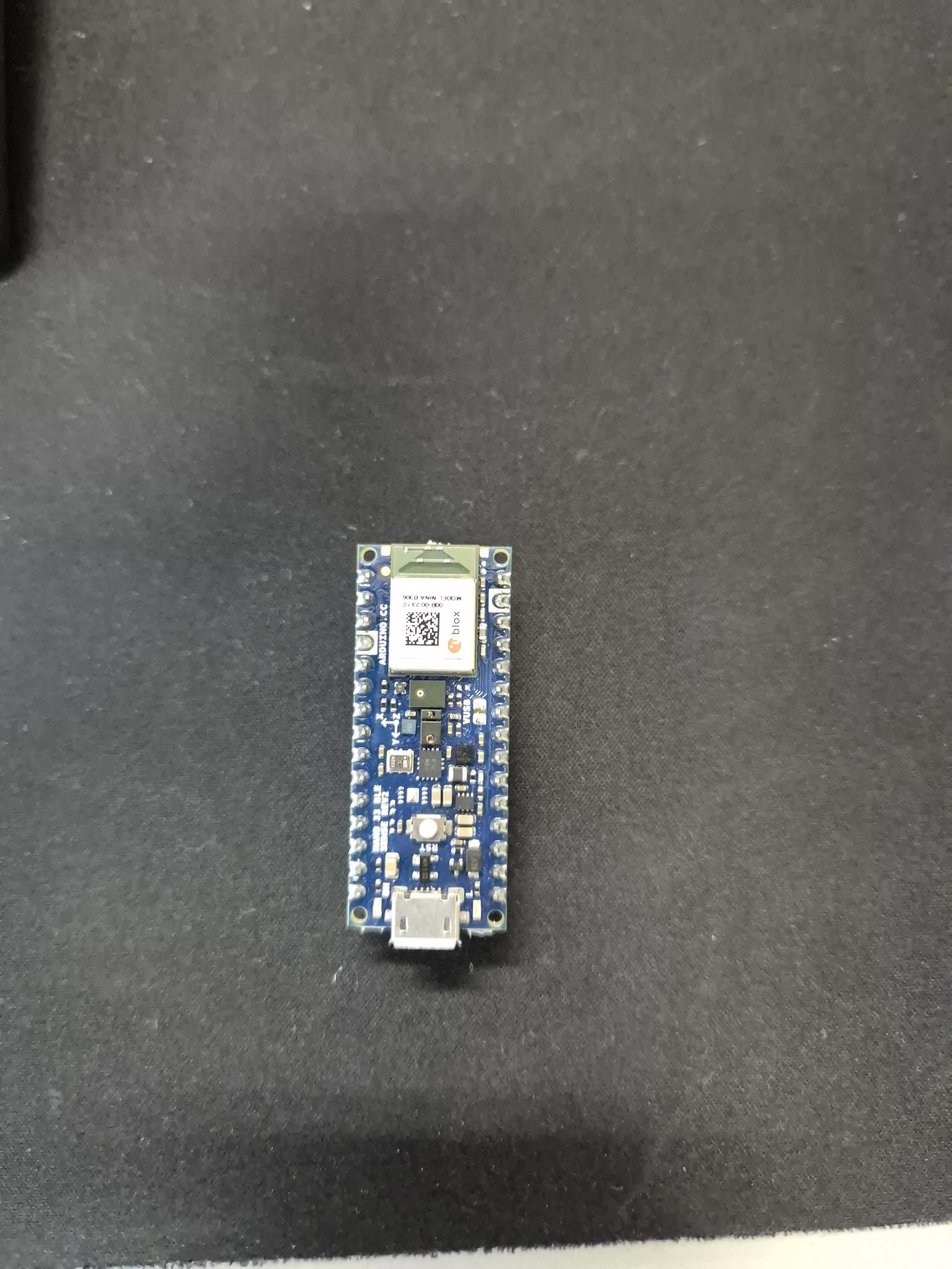arduino-nano-ble-sense: (347, 542, 512, 949)
